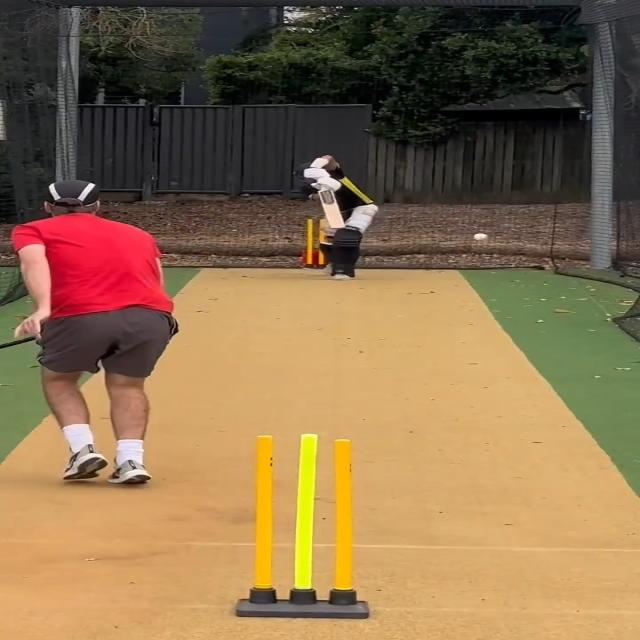ball: (472, 232, 491, 244)
stump: (232, 431, 370, 620)
